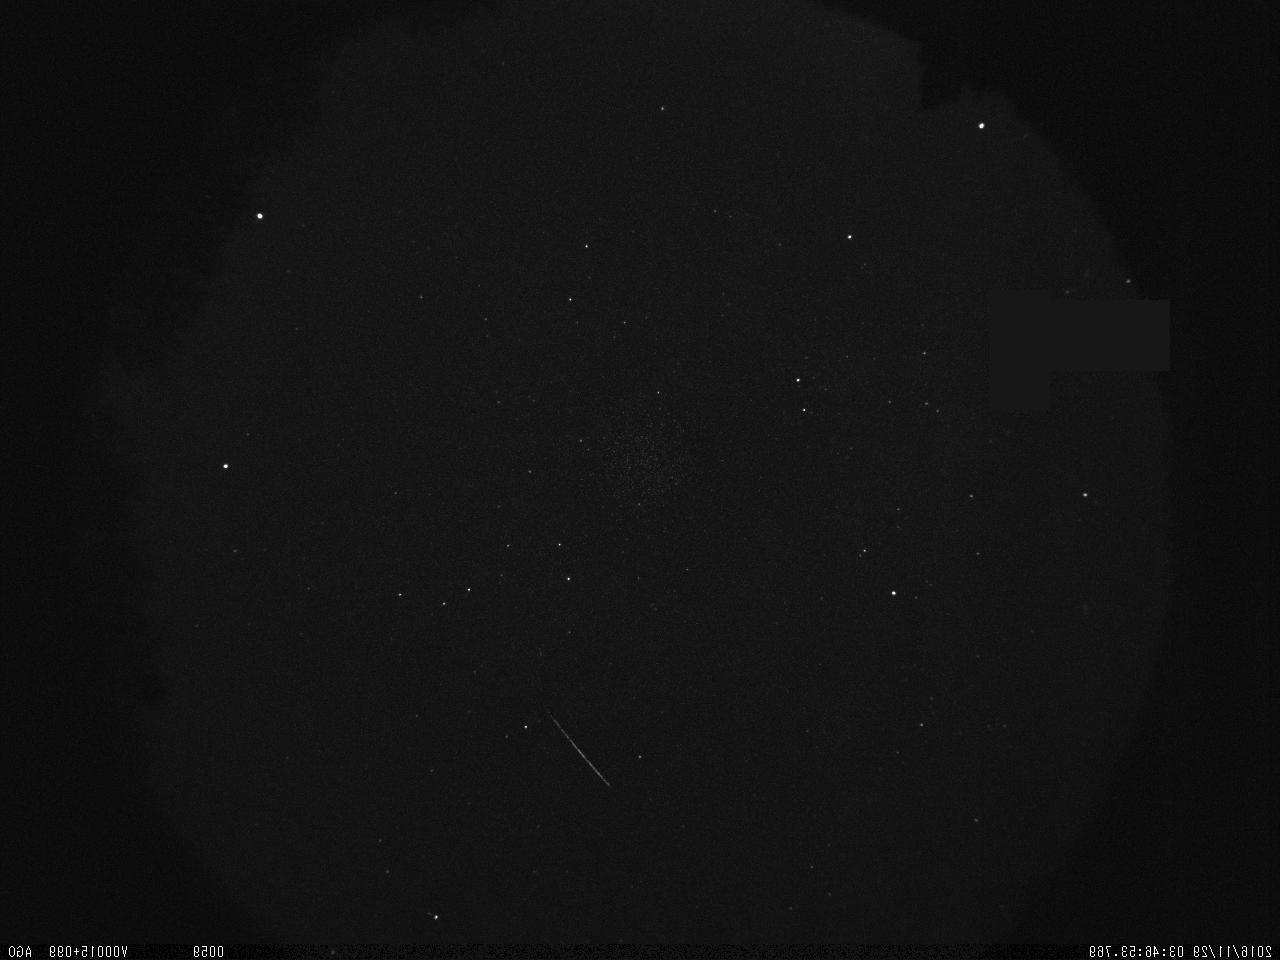meteor: (541, 689, 618, 802)
